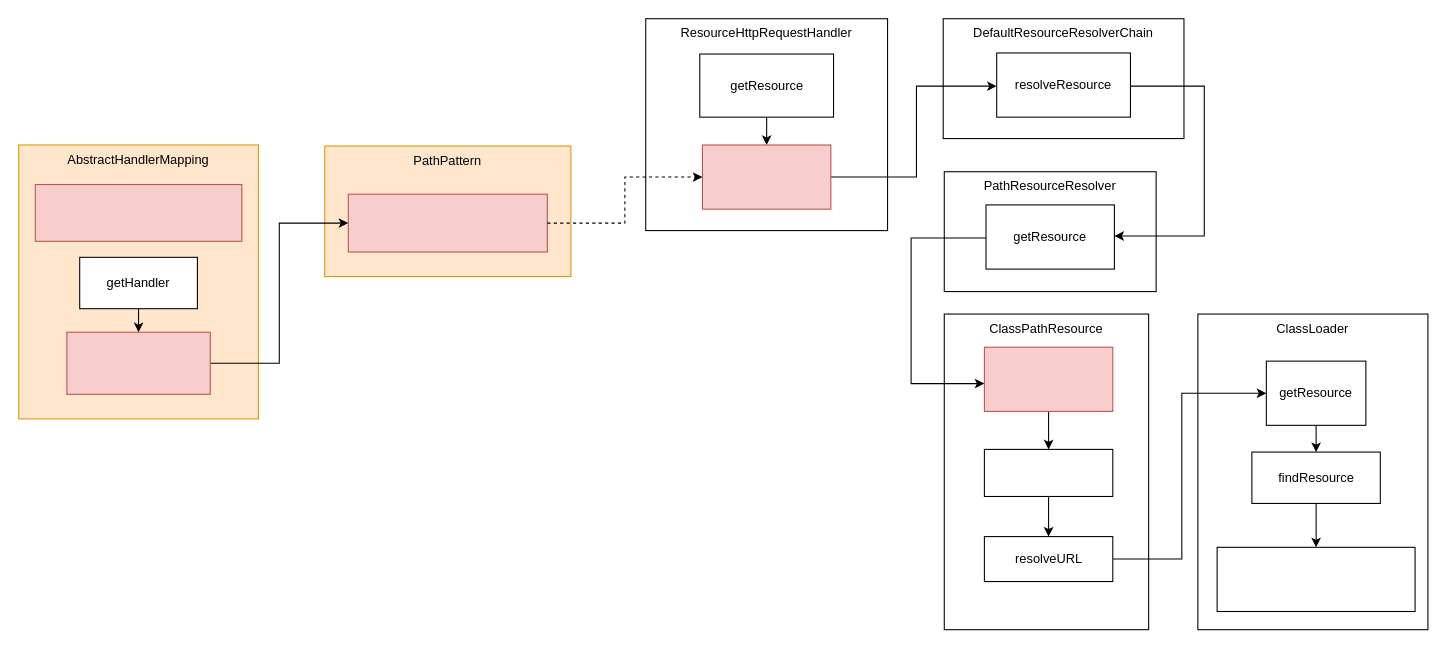
This 1447x648 diagram has some shape labels left out. Each missing label, with the centre of its shape:
"+ pathPatternHandlerMap: 匹配静态资源请求的URL模式" goes at pixel 138 212.
"createRelative 拼接static-location和 请求的相对路径" goes at pixel 1048 378.
"extractPathWithinPattern 去除路径中的模式匹配部分" goes at pixel 447 222.
"findResourceOnClassPath" goes at pixel 1315 579.
"getPath 获取到的路径是 经由模式匹配处理过的路径" goes at pixel 766 176.
"isReadable" goes at pixel 1048 472.
"lookupHandler 判断URL模式 与请求路径是否匹配" goes at pixel 138 362.
